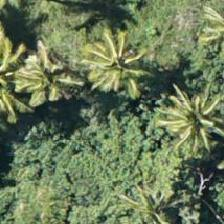coconut_tree: (0, 32, 90, 122), (62, 18, 152, 108), (143, 75, 223, 165), (114, 167, 204, 223)
